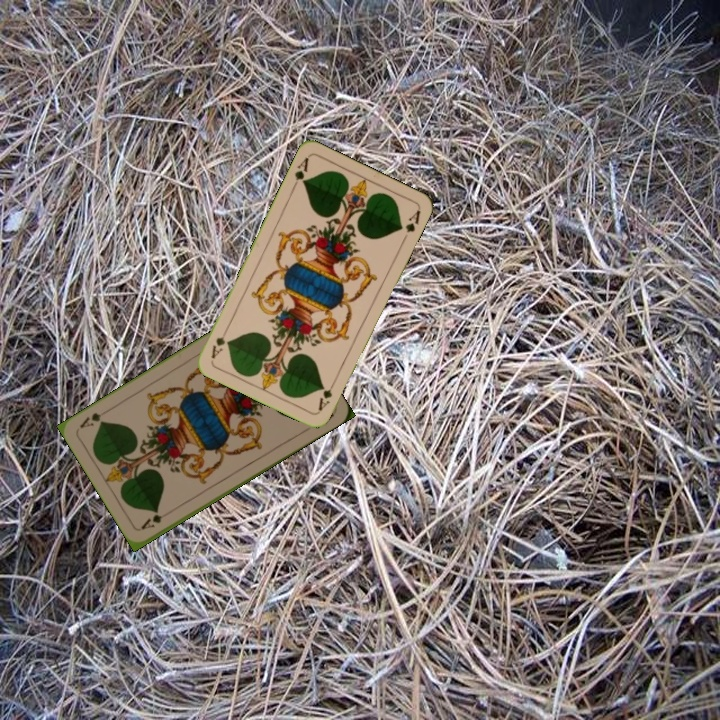GA: (137, 506, 174, 532), (314, 376, 339, 413), (288, 153, 311, 192)
